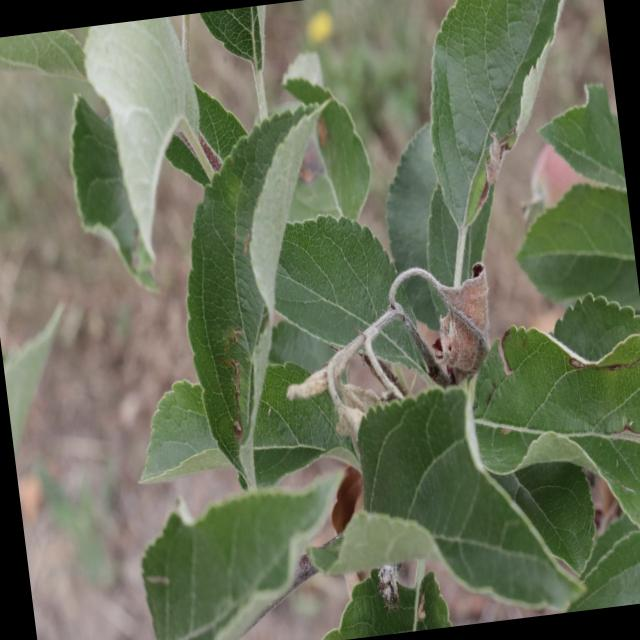-FireBlight-: (430, 262, 497, 366)
